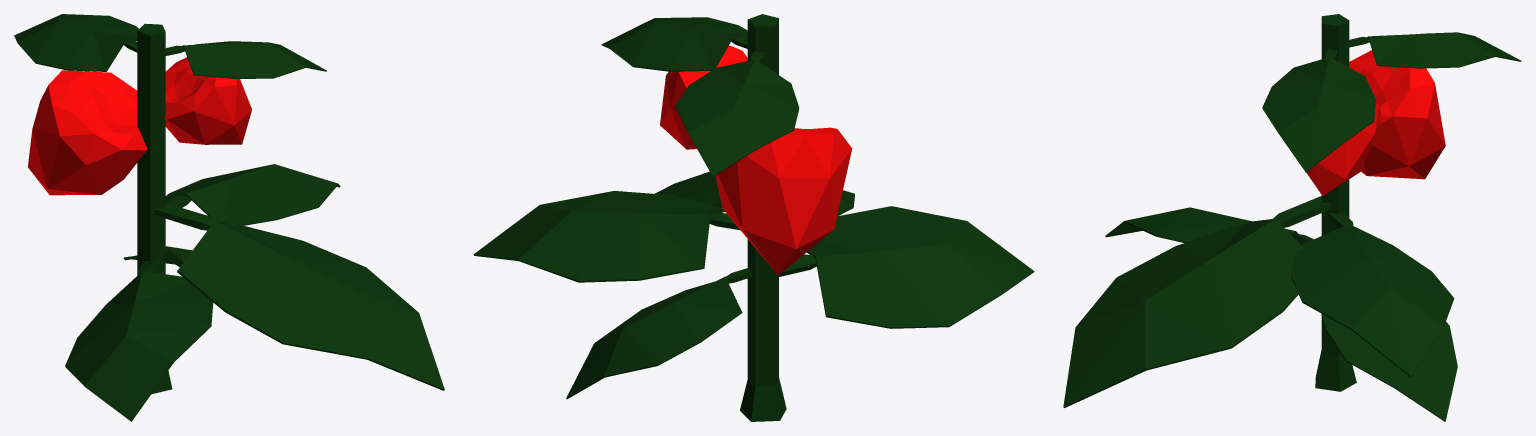
Rendered from StrawberryPlant_Stage_02.obj.
3 views of the same model, side by side, from view 1: azimuth 30°, elevation 25°; view 2: azimuth 150°, elevation 25°; view 3: azimuth 270°, elevation 25° (orthographic). The views are drawn at different scales.
Parts seen in each view (by area): view 1: StrawberryPlant_Stage_02_Cylinder.009; view 2: StrawberryPlant_Stage_02_Cylinder.009; view 3: StrawberryPlant_Stage_02_Cylinder.009.
Part boxes in pixels (left/top/right/bottom): StrawberryPlant_Stage_02_Cylinder.009: left=14, top=14, right=444, bottom=421; StrawberryPlant_Stage_02_Cylinder.009: left=473, top=14, right=1034, bottom=421; StrawberryPlant_Stage_02_Cylinder.009: left=1063, top=14, right=1521, bottom=421.
Bounding box in the file's own units: 1.95 × 1.8 × 2.06.
